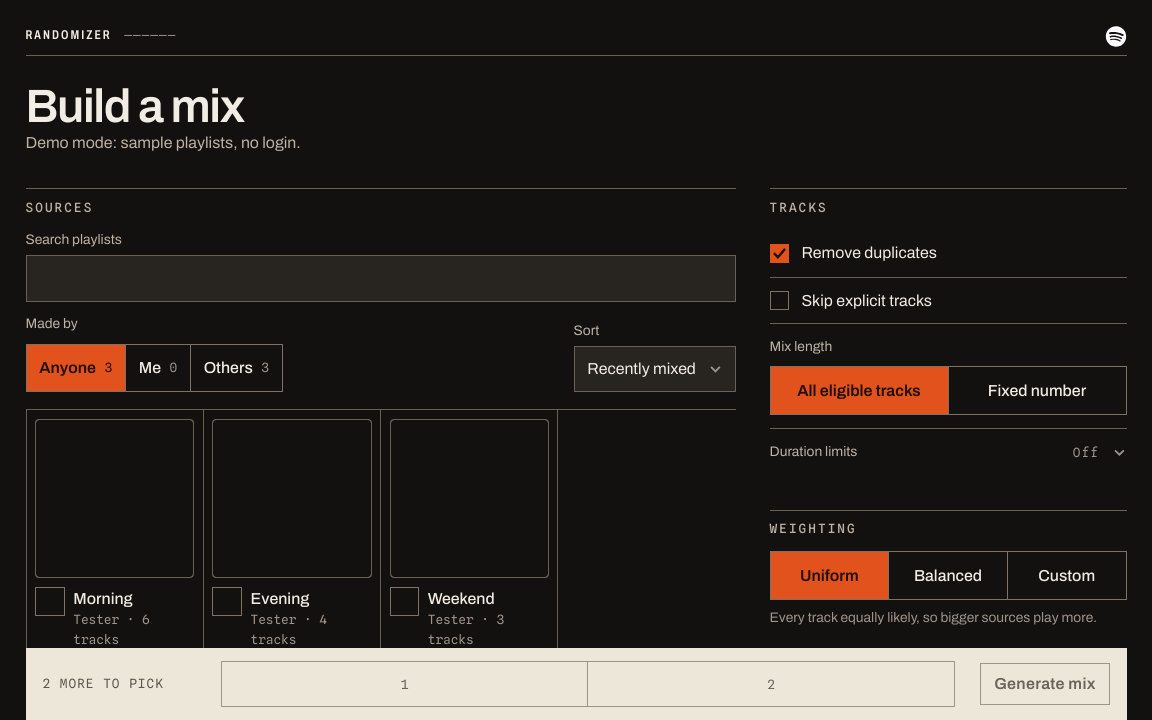
Test case: Mixer › needs at least two sources to generate a mix
Click the checkbox labelled "Morning Tester · 6 tracks".
click(45, 428)  # box [35,419,54,438]
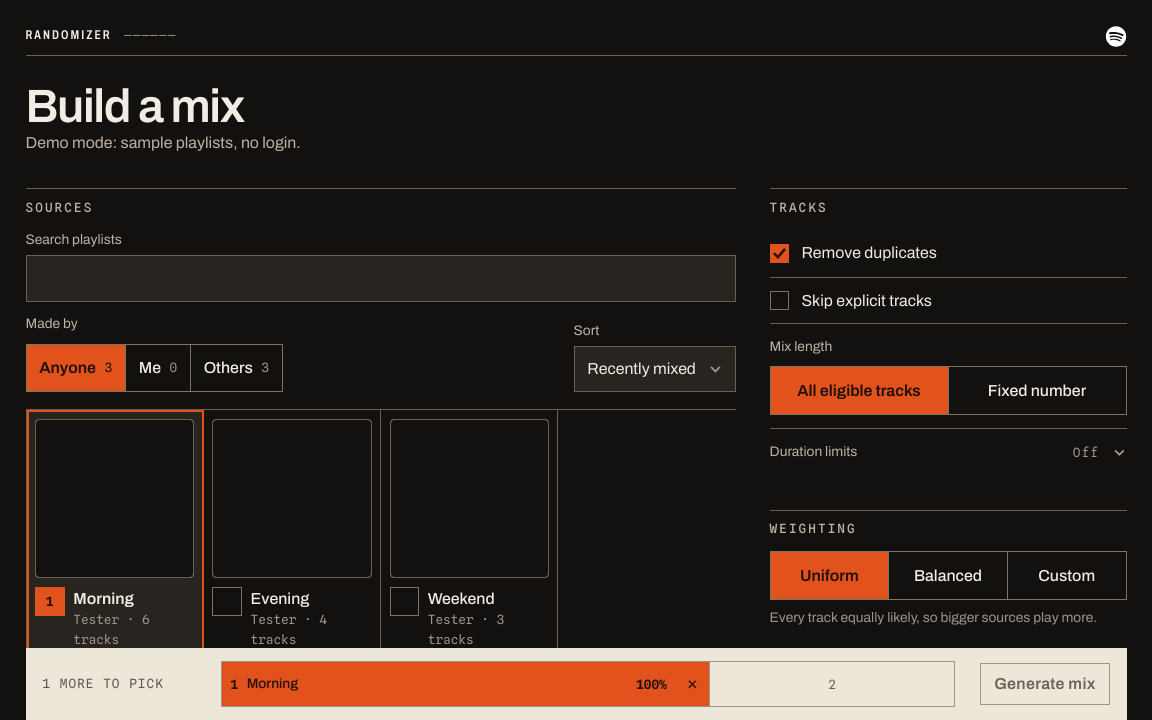
Expected: the button "Generate mix" is disabled, [980,663,1110,705]
Click the checkbox labelled "Evening Tester · 4 tracks".
click(222, 428)  # box [212,419,231,438]
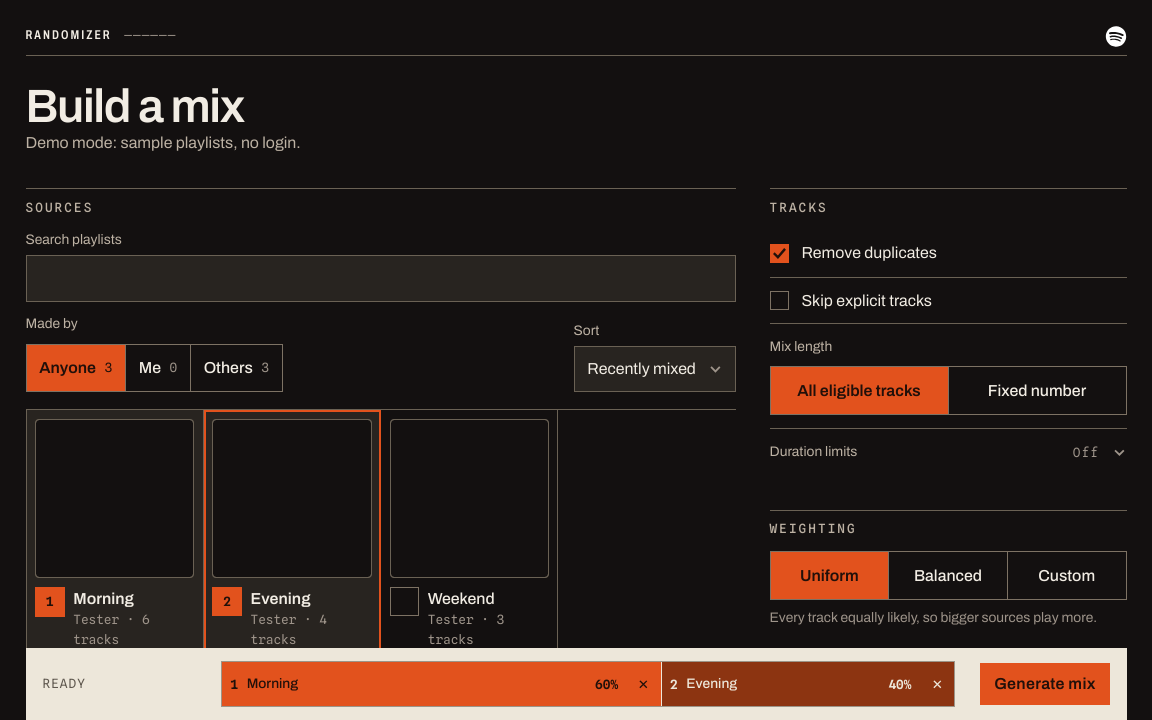
Expected: the button "Generate mix" is enabled, [980,663,1110,705]
